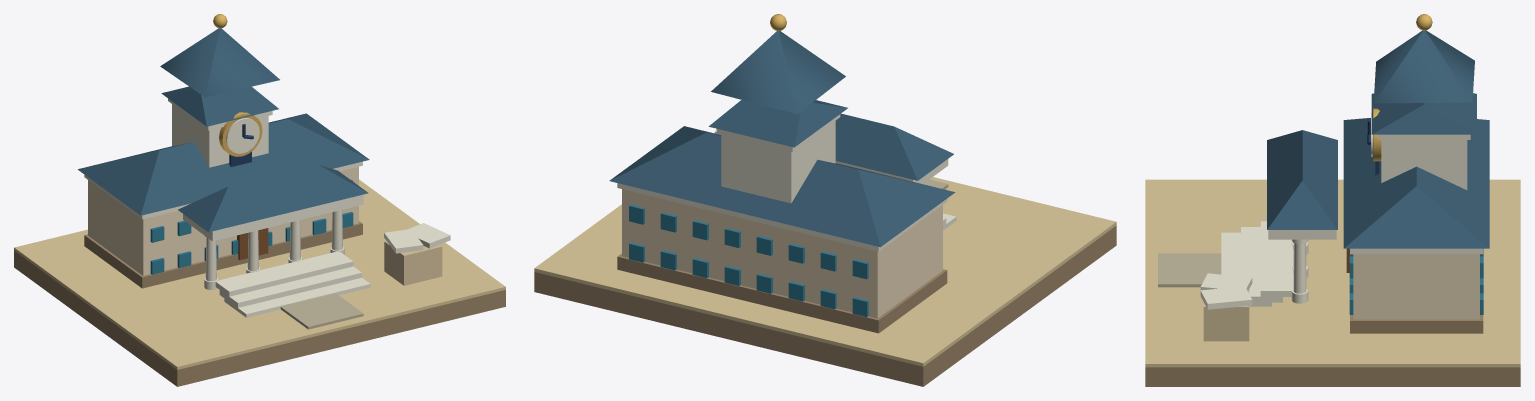
The model's file is university-lv1.glb.
The picture shows the model from 3 angles, left to right: view 1: azimuth 30°, elevation 25°; view 2: azimuth 150°, elevation 25°; view 3: azimuth 270°, elevation 25°; orthographic projection. The views are drawn at different scales.
Parts seen in each view (by area): view 1: foundation_sand, lecture_hall_roof_roof, foundation_stoneDark, lecture_hall_cream, portico_pediment_roof, entrance_steps_white, tower_cap_roof, lecture_hall_stoneDark, clock_tower_roof_roof, clock_tower_white, body_white, book_plinth_stone (+8 smaller); view 2: foundation_sand, lecture_hall_cream, lecture_hall_roof_roof, foundation_stoneDark, tower_cap_roof, clock_tower_white, lecture_hall_stoneDark, portico_pediment_roof, lecture_hall_windows_glass, clock_tower_roof_roof, lecture_hall_white; view 3: foundation_sand, lecture_hall_roof_roof, lecture_hall_cream, foundation_stoneDark, portico_pediment_roof, tower_cap_roof, entrance_steps_white, clock_tower_white, clock_tower_roof_roof, lecture_hall_stoneDark, campus_path_paving, book_plinth_stone (+5 smaller).
Part boxes in pixels (x1,y1,x2,y2): foundation_sand: (14, 179, 505, 369); lecture_hall_roof_roof: (78, 113, 369, 215); foundation_stoneDark: (14, 250, 505, 386); lecture_hall_cream: (88, 166, 358, 275); portico_pediment_roof: (178, 164, 368, 232); entrance_steps_white: (215, 251, 370, 317); tower_cap_roof: (160, 28, 279, 97); lecture_hall_stoneDark: (84, 221, 362, 288); clock_tower_roof_roof: (161, 86, 278, 126); clock_tower_white: (168, 98, 272, 167); body_white: (204, 210, 344, 289); book_plinth_stone: (384, 241, 442, 285); foundation_sand: (534, 177, 1116, 366); lecture_hall_cream: (622, 189, 942, 318); lecture_hall_roof_roof: (609, 126, 955, 247); foundation_stoneDark: (534, 225, 1116, 386); tower_cap_roof: (711, 31, 845, 114); clock_tower_white: (716, 114, 840, 203); lecture_hall_stoneDark: (617, 253, 947, 333); portico_pediment_roof: (835, 113, 953, 180); lecture_hall_windows_glass: (629, 204, 868, 317); clock_tower_roof_roof: (709, 100, 847, 147); lecture_hall_white: (617, 183, 947, 251); foundation_sand: (1145, 179, 1520, 367); lecture_hall_roof_roof: (1343, 118, 1489, 248); lecture_hall_cream: (1353, 254, 1479, 319); foundation_stoneDark: (1145, 367, 1520, 386); portico_pediment_roof: (1267, 130, 1337, 229); tower_cap_roof: (1373, 30, 1474, 103); entrance_steps_white: (1221, 221, 1293, 306); clock_tower_white: (1378, 134, 1470, 189); clock_tower_roof_roof: (1371, 93, 1476, 134); lecture_hall_stoneDark: (1350, 315, 1483, 333); campus_path_paving: (1158, 253, 1221, 287); book_plinth_stone: (1203, 289, 1249, 341).
Size of the model in its own units: 1 by 0.7081 by 0.8605.
